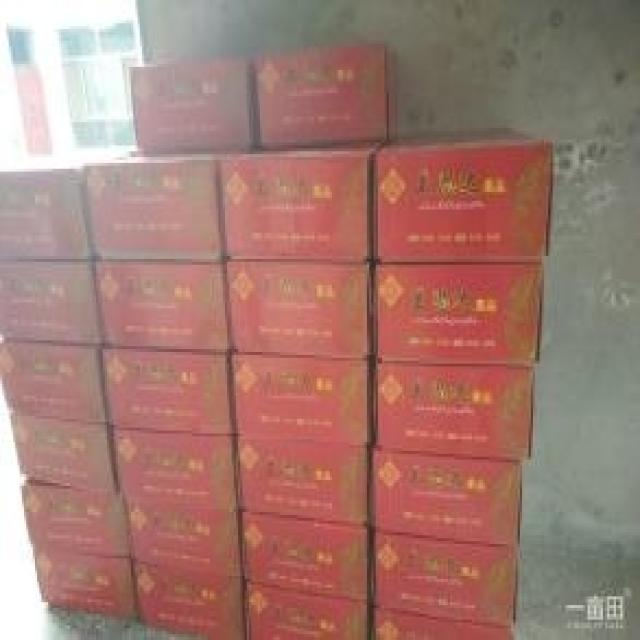box: (374, 137, 555, 262), (221, 143, 384, 262), (369, 262, 546, 367), (371, 361, 535, 463), (369, 448, 522, 547), (85, 154, 225, 262), (371, 529, 518, 631), (253, 44, 398, 145), (229, 262, 374, 358), (232, 352, 374, 445), (129, 58, 260, 154), (96, 262, 232, 352), (242, 512, 371, 605), (103, 346, 236, 433), (236, 439, 369, 524), (114, 431, 240, 509), (0, 337, 109, 425), (22, 474, 131, 559), (9, 413, 118, 497), (133, 561, 245, 640), (127, 503, 242, 579), (0, 262, 105, 343), (0, 172, 94, 262), (33, 547, 138, 623), (245, 579, 371, 640), (371, 611, 515, 640)
